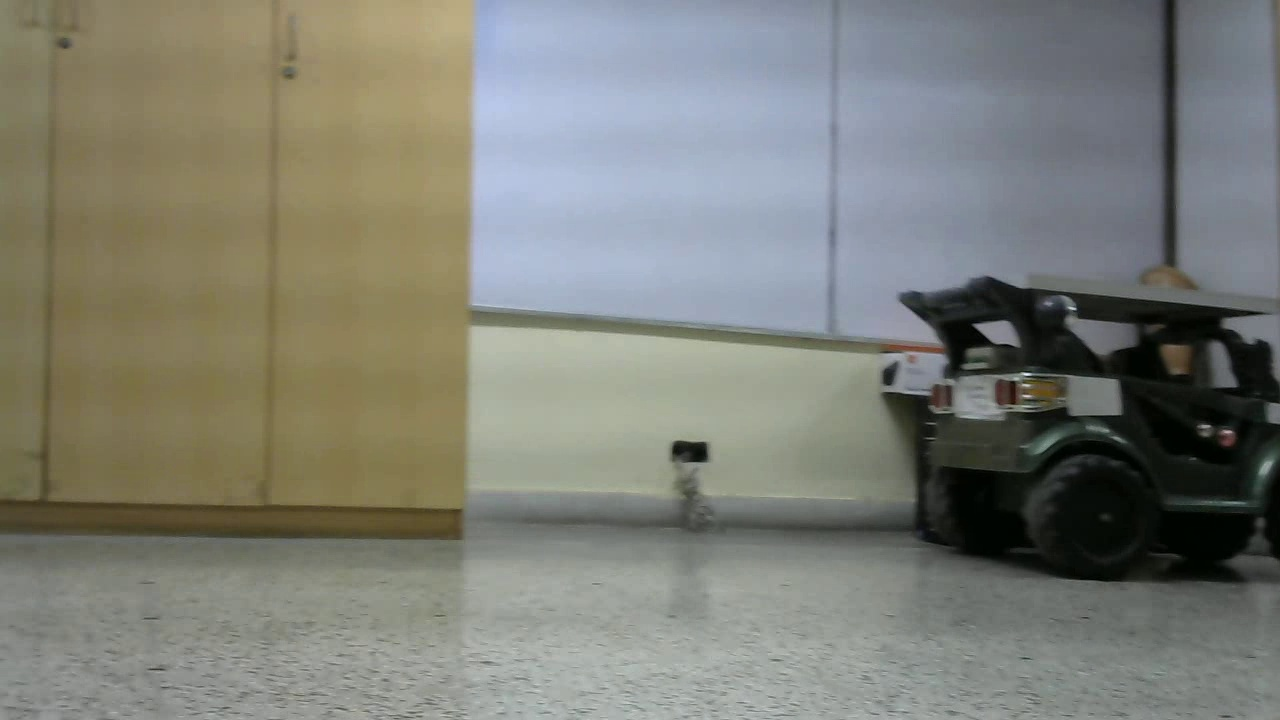chair: (1073, 1, 1280, 683)
